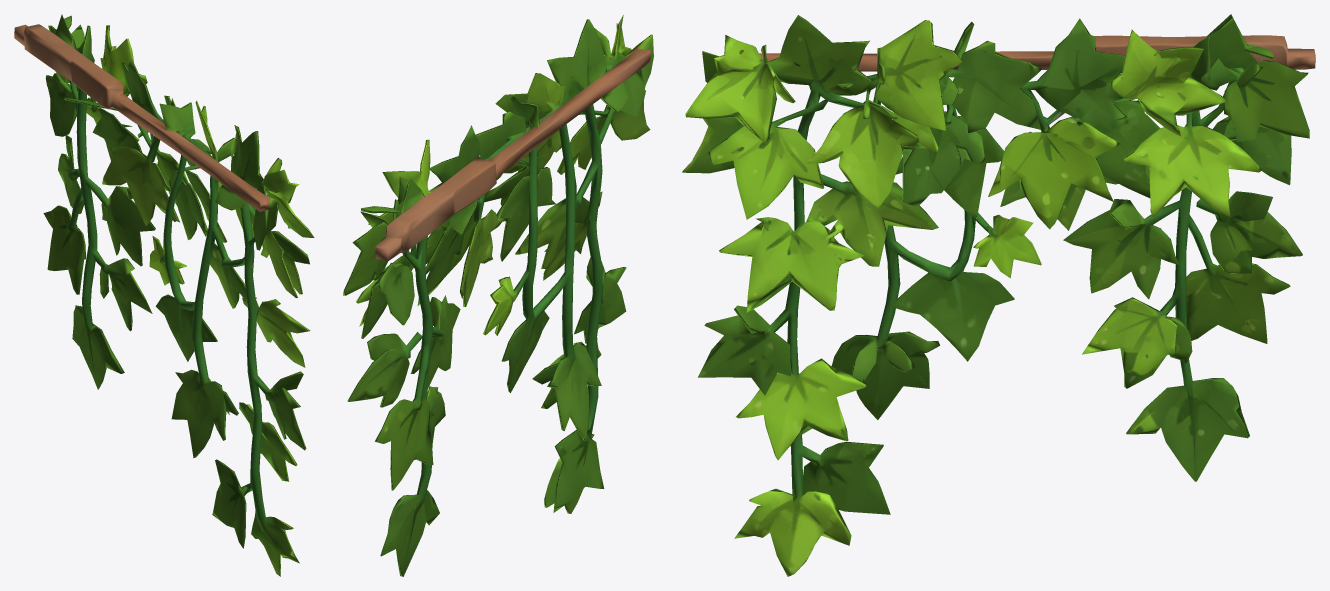
File: vines.glb
3 renders of one model, left to right at view 1: azimuth 30°, elevation 25°; view 2: azimuth 150°, elevation 25°; view 3: azimuth 270°, elevation 25°, orthographic. The views are drawn at different scales.
Parts seen in each view (by area): view 1: tripo_node_e160ba82-fe54-463b-8900-326a9d860271; view 2: tripo_node_e160ba82-fe54-463b-8900-326a9d860271; view 3: tripo_node_e160ba82-fe54-463b-8900-326a9d860271.
Part boxes in pixels (x1,y1,x2,y2): tripo_node_e160ba82-fe54-463b-8900-326a9d860271: [14, 14, 314, 576]; tripo_node_e160ba82-fe54-463b-8900-326a9d860271: [343, 15, 653, 576]; tripo_node_e160ba82-fe54-463b-8900-326a9d860271: [682, 14, 1315, 576].
Bounding box in the file's own units: 0.163 × 0.9577 × 1.
Materials: 1 (1 with a texture image).
